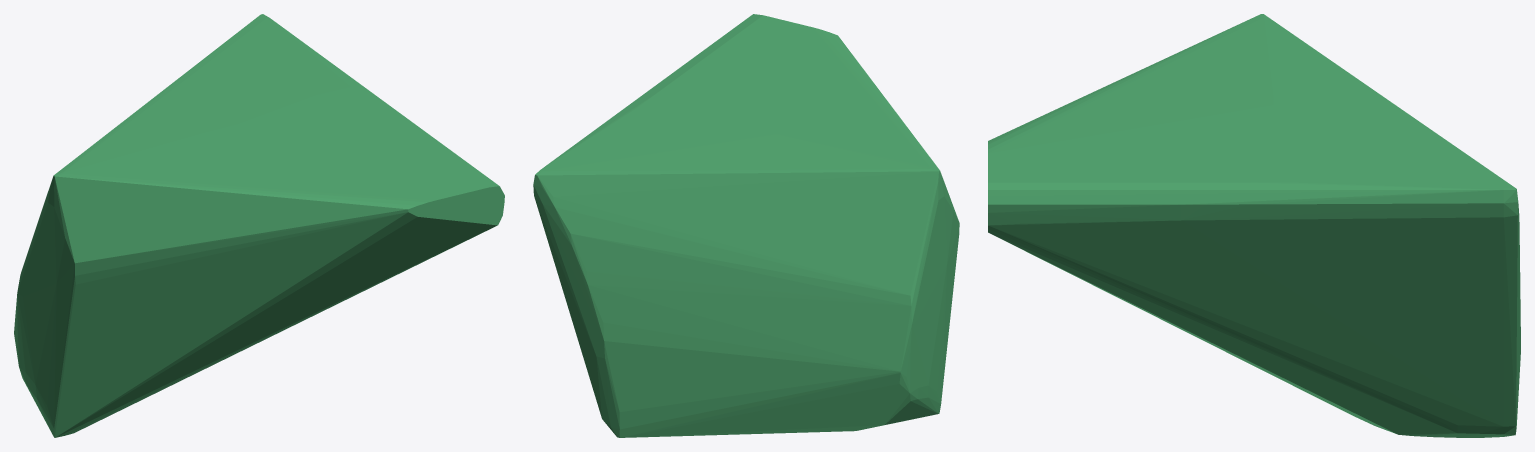
File: right-hip-roll-0_part_3.obj
3 renders of one model, left to right at view 1: azimuth 30°, elevation 25°; view 2: azimuth 150°, elevation 25°; view 3: azimuth 270°, elevation 25°, orthographic. The views are drawn at different scales.
Size of the model in its own units: 0.0262 by 0.02 by 0.0325.
